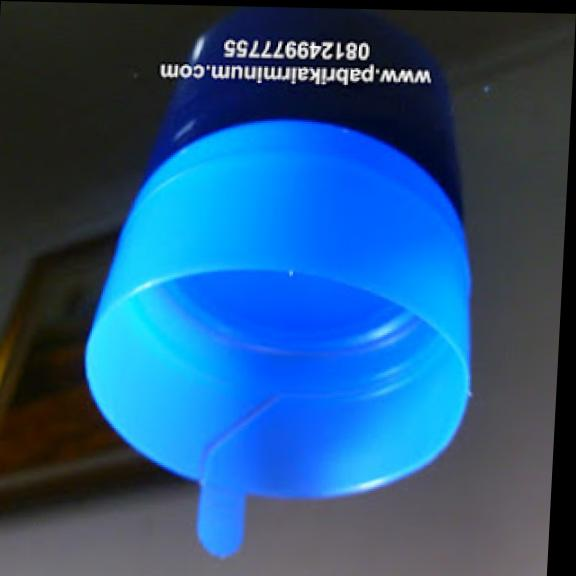Plastik: (83, 119, 471, 555)
